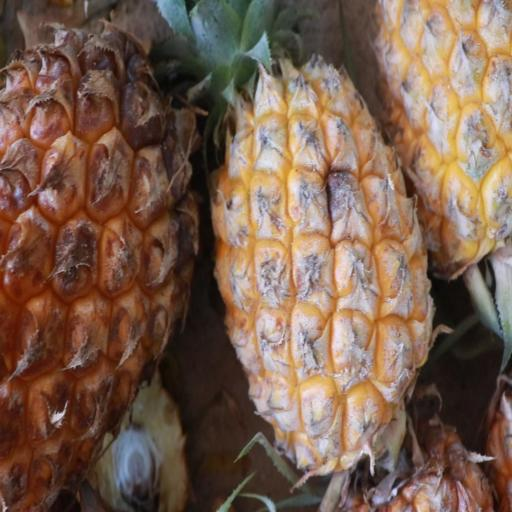Pineapple - v8 v1: (198, 0, 432, 478), (1, 0, 206, 512), (379, 0, 512, 284)
